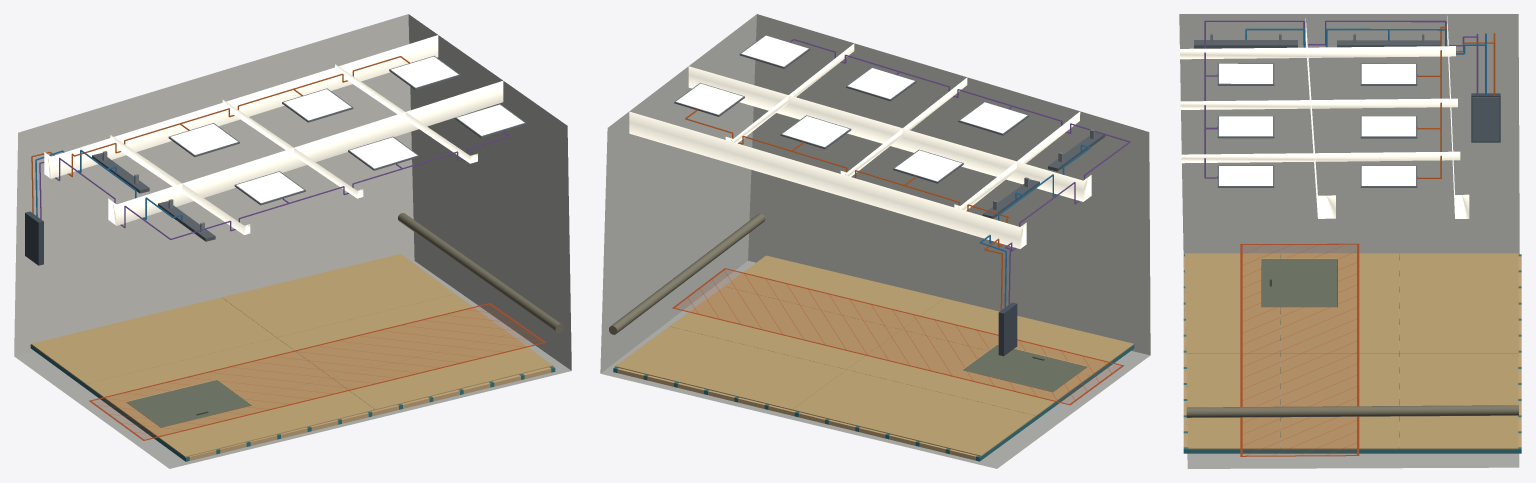
Rendered from garage.glb.
The picture shows the model from 3 angles, left to right: view 1: azimuth 30°, elevation 25°; view 2: azimuth 150°, elevation 25°; view 3: azimuth 270°, elevation 25°; orthographic projection. The views are drawn at different scales.
Visible parts, largest first — view 1: walls, deck, ceiling, joists, floor-base; view 2: walls, deck, ceiling, joists, floor-base; view 3: walls, deck, ceiling, joists, floor-base.
Boxes of the visible parts, box(x1,y1,x2,y2) form: walls: box(14, 14, 571, 370); deck: box(31, 254, 552, 457); ceiling: box(25, 35, 526, 265); joists: box(30, 303, 555, 461); floor-base: box(14, 261, 571, 468); walls: box(600, 14, 1150, 373); deck: box(615, 255, 1133, 456); ceiling: box(629, 35, 1130, 356); joists: box(613, 268, 1134, 461); floor-base: box(600, 261, 1150, 468); walls: box(1179, 14, 1519, 458); deck: box(1184, 253, 1518, 449); ceiling: box(1180, 16, 1500, 218); joists: box(1183, 243, 1521, 456); floor-base: box(1184, 253, 1519, 468).
Size of the model in its own units: 5.31 by 3.13 by 3.6.
